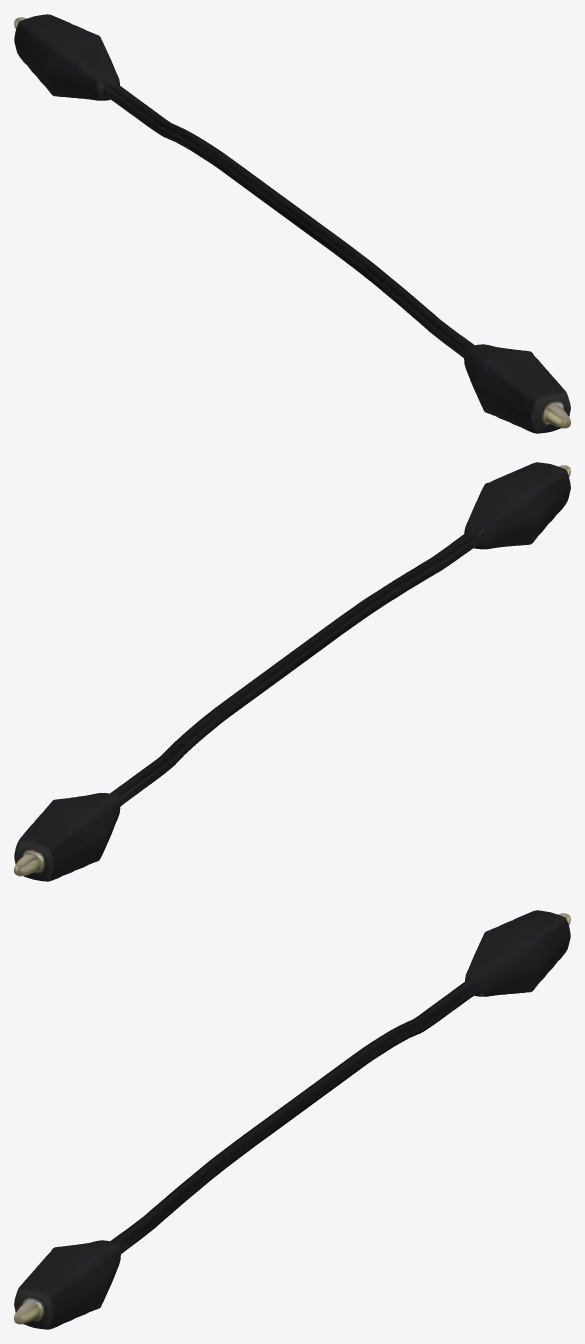
File: base_basic_shaded.fbx
The picture shows the model from 3 angles, top to bottom: view 1: azimuth 30°, elevation 25°; view 2: azimuth 150°, elevation 25°; view 3: azimuth 330°, elevation 25°; orthographic projection.
Parts seen in each view (by area): view 1: model; view 2: model; view 3: model.
Part boxes in pixels (x1,y1,x2,y2): model: [14, 14, 570, 433]; model: [14, 462, 570, 881]; model: [14, 910, 570, 1329].
Bounding box in the file's own units: 12.45 × 11.27 × 191.
